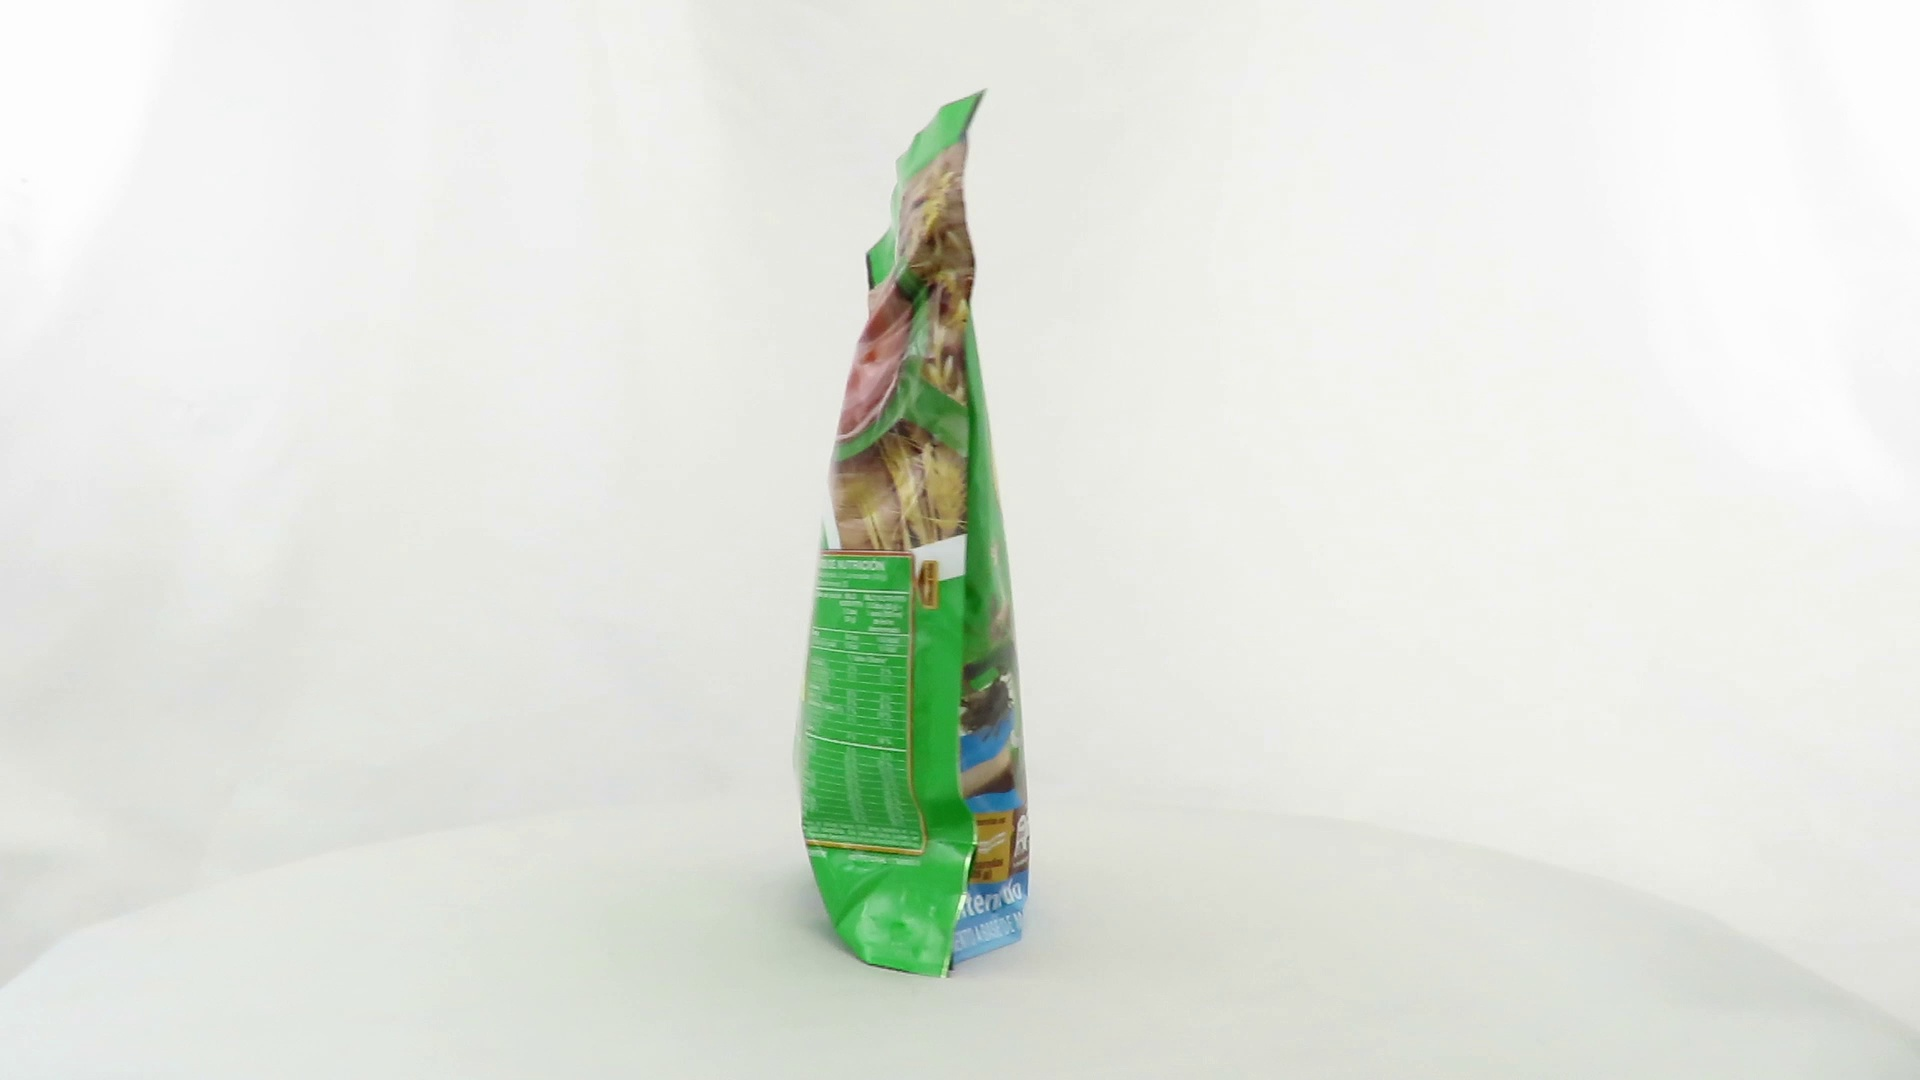COL0170205DYP50000: (794, 83, 1036, 984)
